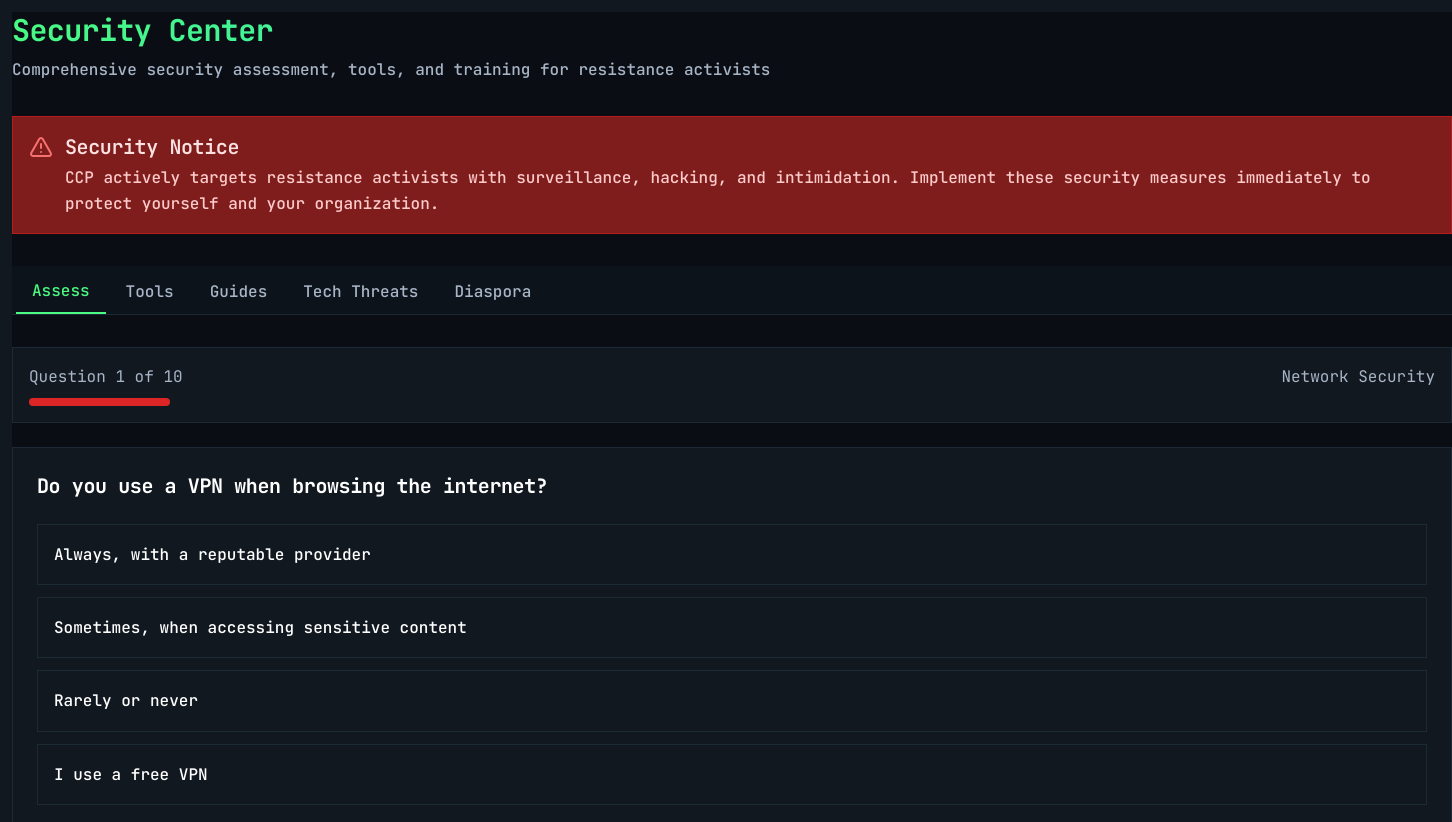
Test case: SecurityCenter › switches to Guides tab and shows training guides
The width and height of the screenshot is (1452, 822).
Click the button "Guides" at (238, 292), box [194,270,283,314]
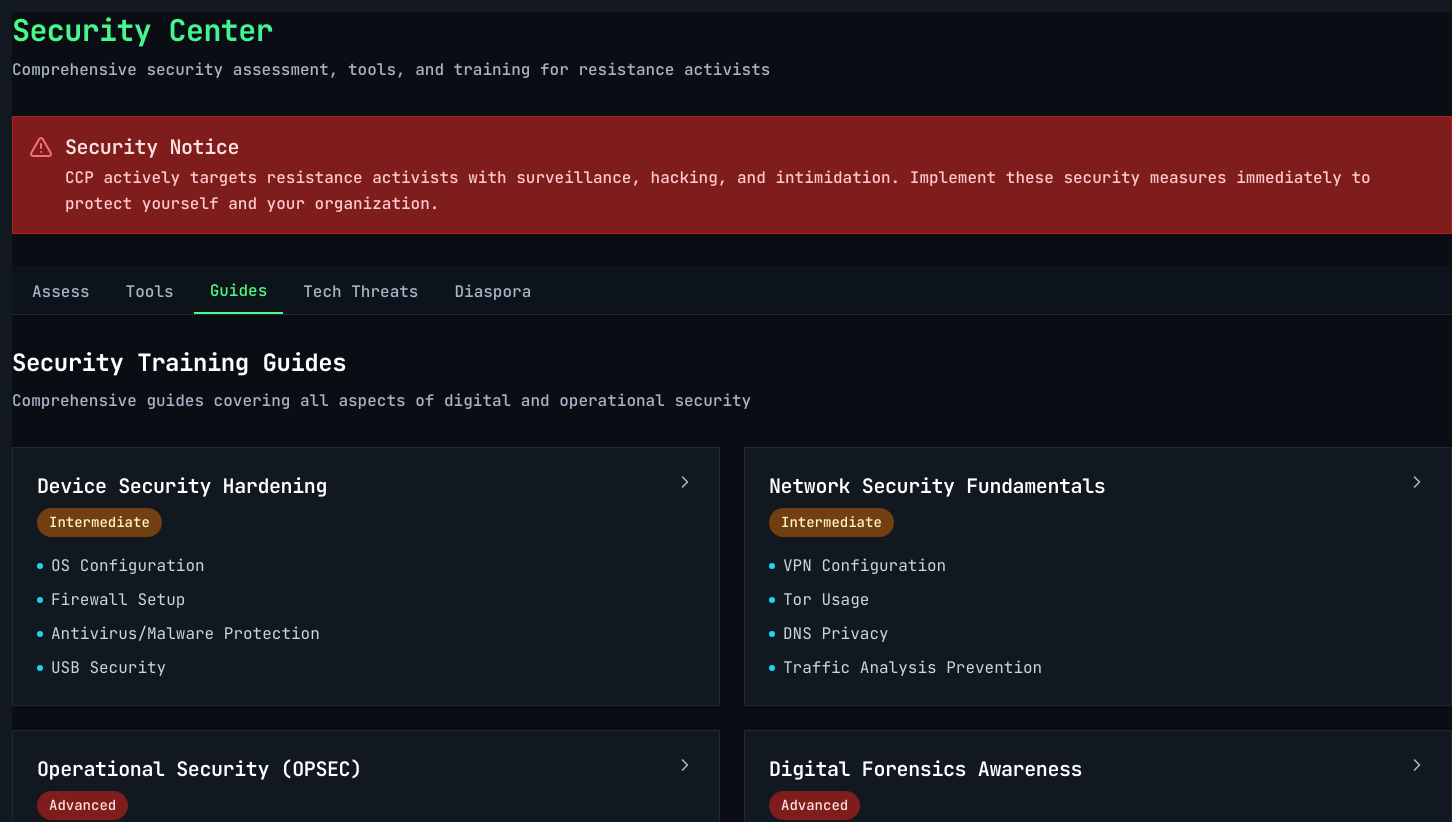
Expected: the heading "Security Training Guides" is shown, [12,347,346,378]
